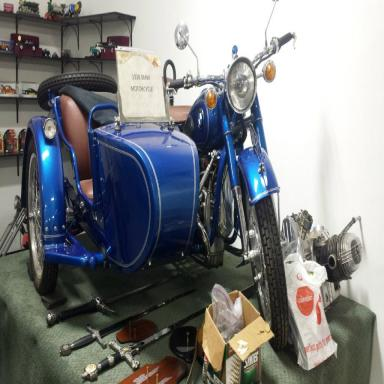plasticbag: (283, 250, 337, 370)
